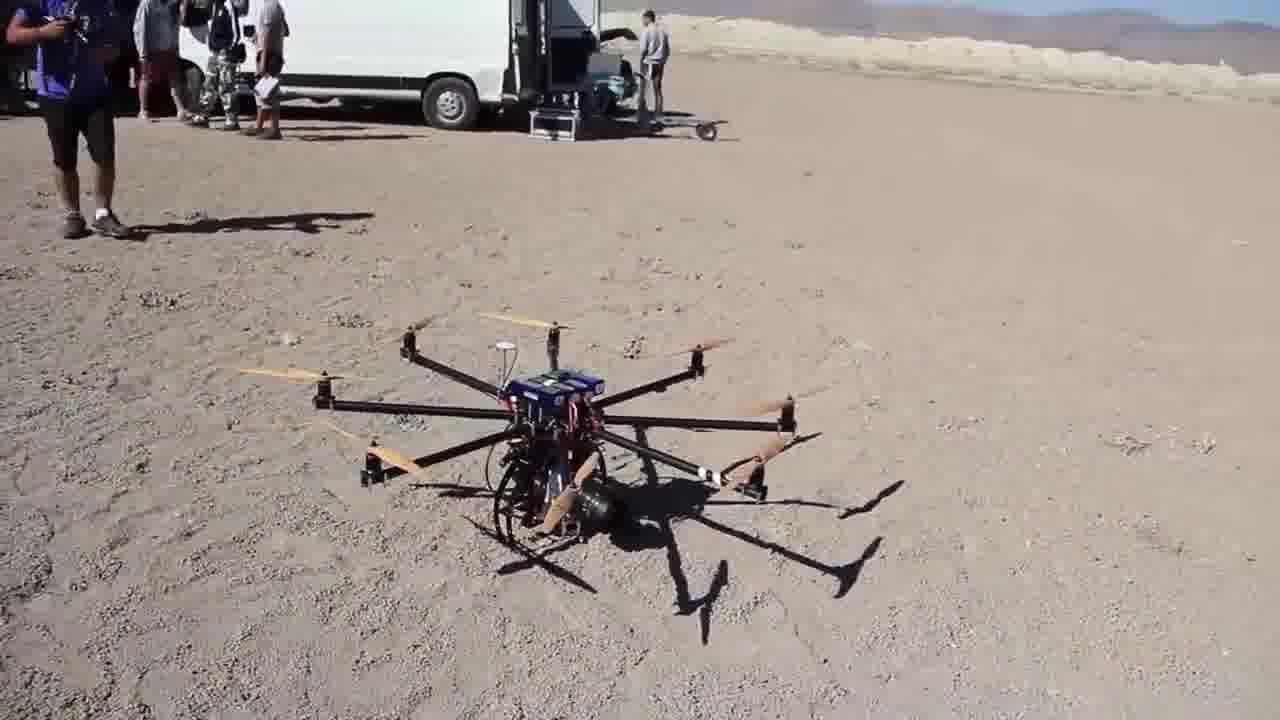drone: (245, 282, 824, 555)
